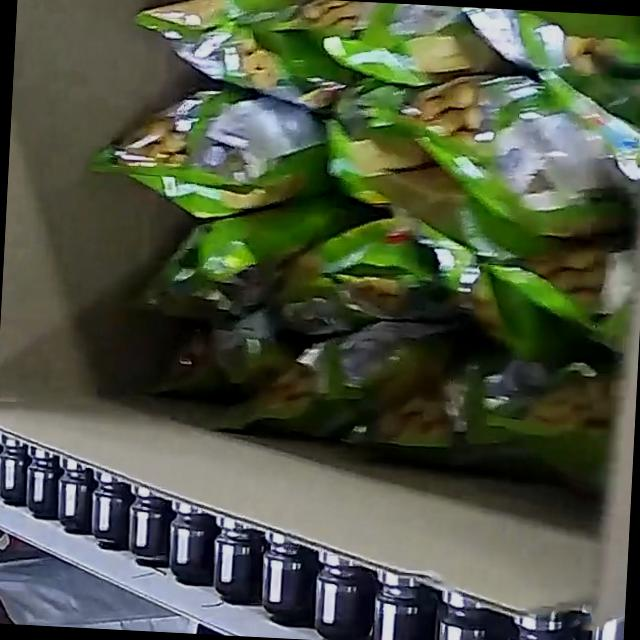yogurt: (69, 0, 640, 480)
